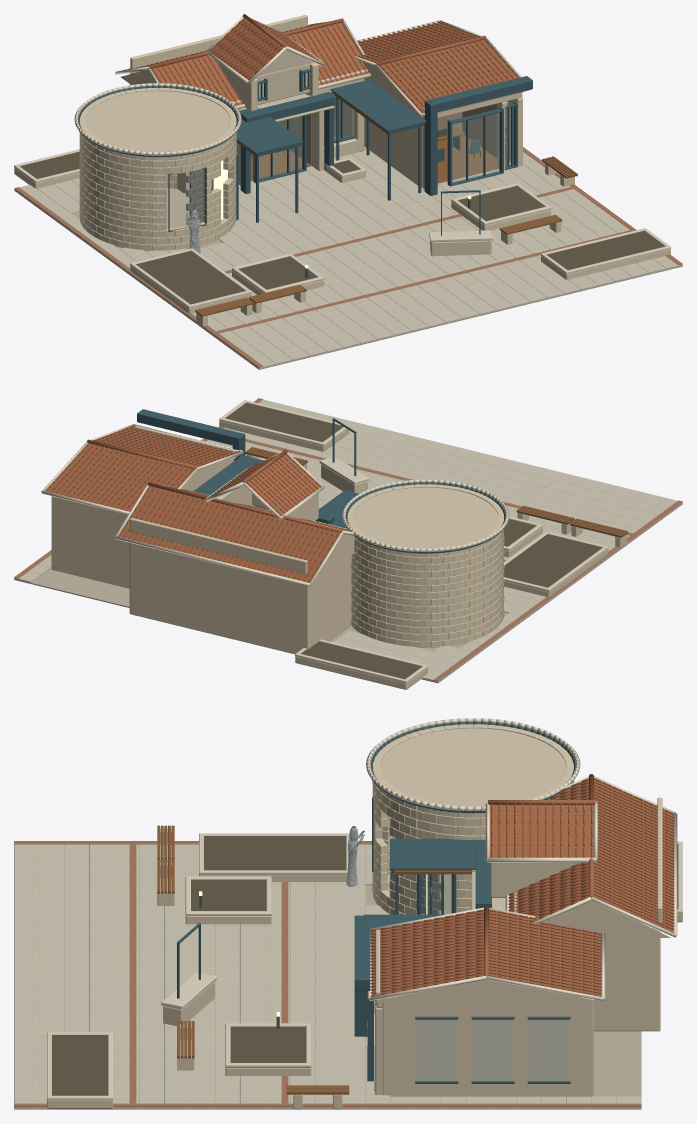
Rendered from ecc-exterior-annotations.glb.
3 renders of one model, top to bottom at view 1: azimuth 30°, elevation 25°; view 2: azimuth 150°, elevation 25°; view 3: azimuth 270°, elevation 25°, orthographic. The views are drawn at different scales.
Size of the model in its own units: 19.12 by 5.92 by 20.25.
